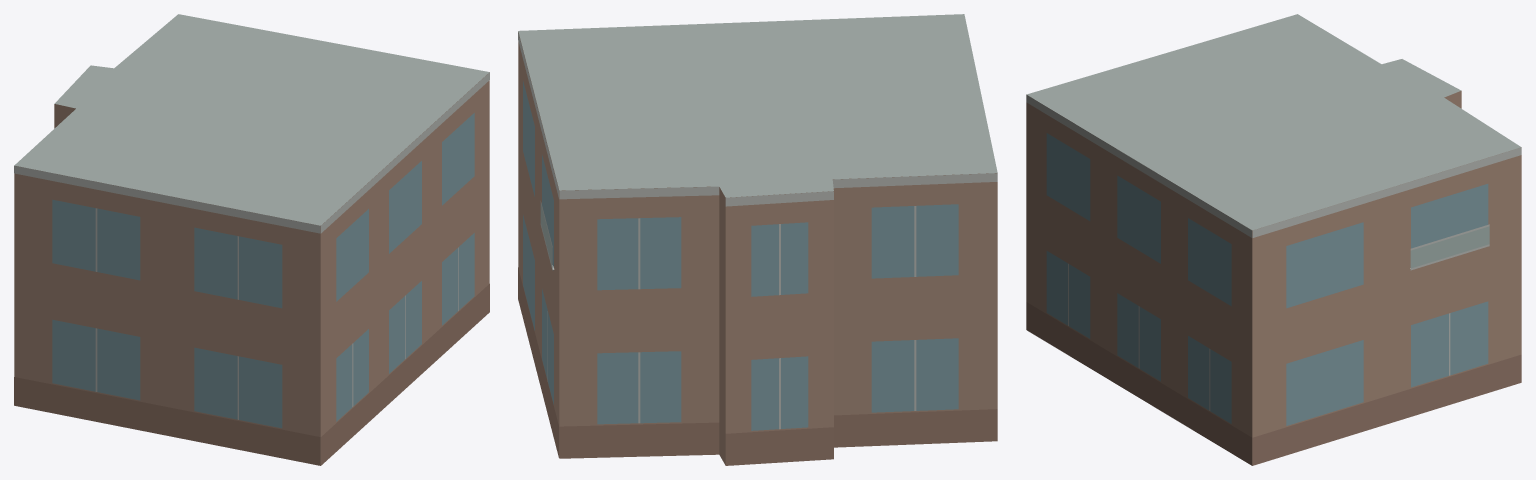
File: survey-upis-32724102.glb
3 views of the same model, side by side, from view 1: azimuth 30°, elevation 25°; view 2: azimuth 150°, elevation 25°; view 3: azimuth 270°, elevation 25° (orthographic). The views are drawn at different scales.
Parts seen in each view (by area): view 1: survey-upis-32724102.tmp; view 2: survey-upis-32724102.tmp; view 3: survey-upis-32724102.tmp.
Boxes of the visible parts, box(x1,y1,x2,y2) form: survey-upis-32724102.tmp: box(14, 14, 489, 465); survey-upis-32724102.tmp: box(518, 14, 997, 465); survey-upis-32724102.tmp: box(1026, 14, 1521, 465).
Bounding box in the file's own units: 14.6 × 7.4 × 14.12.
